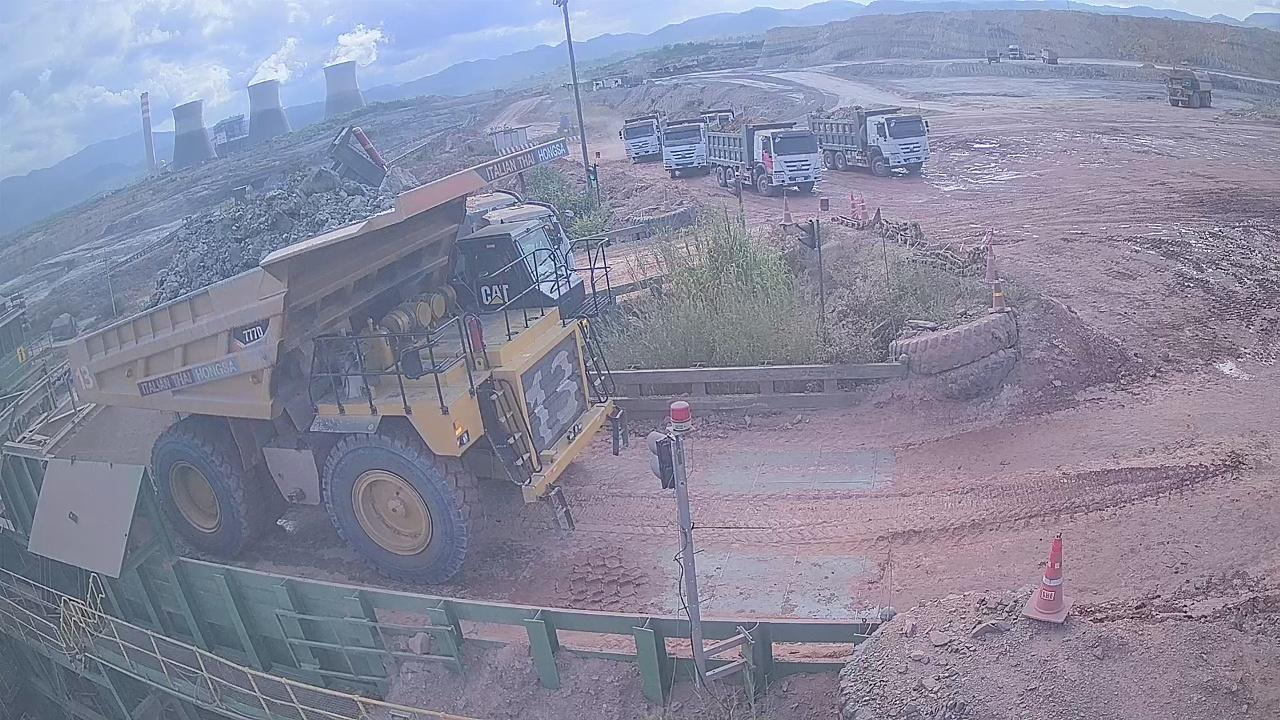company: (132, 353, 268, 398)
dumping_soil: (65, 128, 632, 586)
front_number: (510, 327, 600, 443)
full_load: (137, 146, 402, 309)
tail_number: (68, 362, 100, 398)
truck_size: (223, 319, 277, 350)
